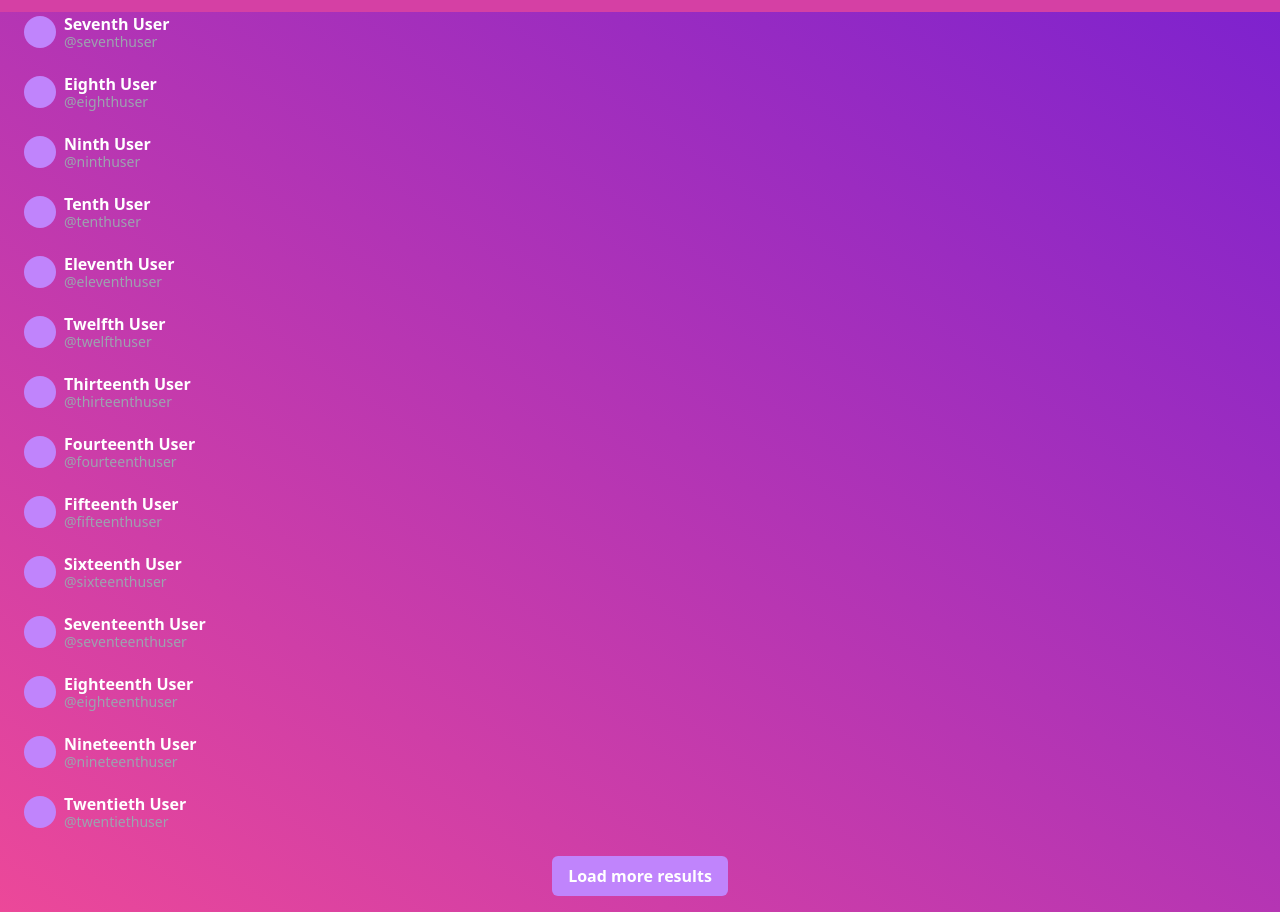
Test: QueryResults Component › loads results by batch › loads batch 2 of 3
(page scrolled)
Click the button "Load more results" at (640,876), box [552, 856, 728, 896]
(page scrolled)
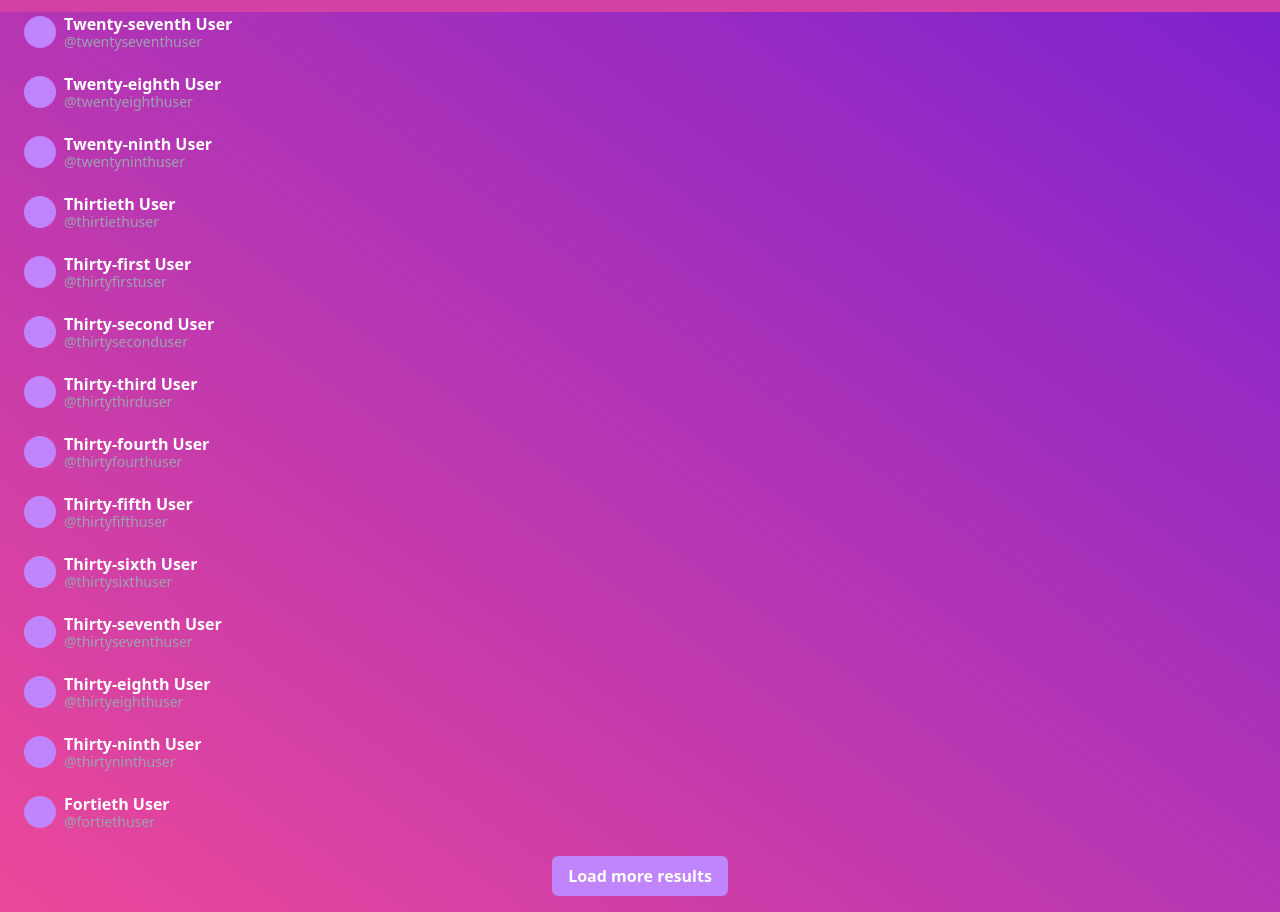
Result: the text "Twenty-seventh User" is shown at [64, 16, 232, 32]
Result: the text "Twenty-eighth User" is shown at [64, 76, 221, 92]
Result: the text "Twenty-ninth User" is shown at [64, 136, 212, 152]
